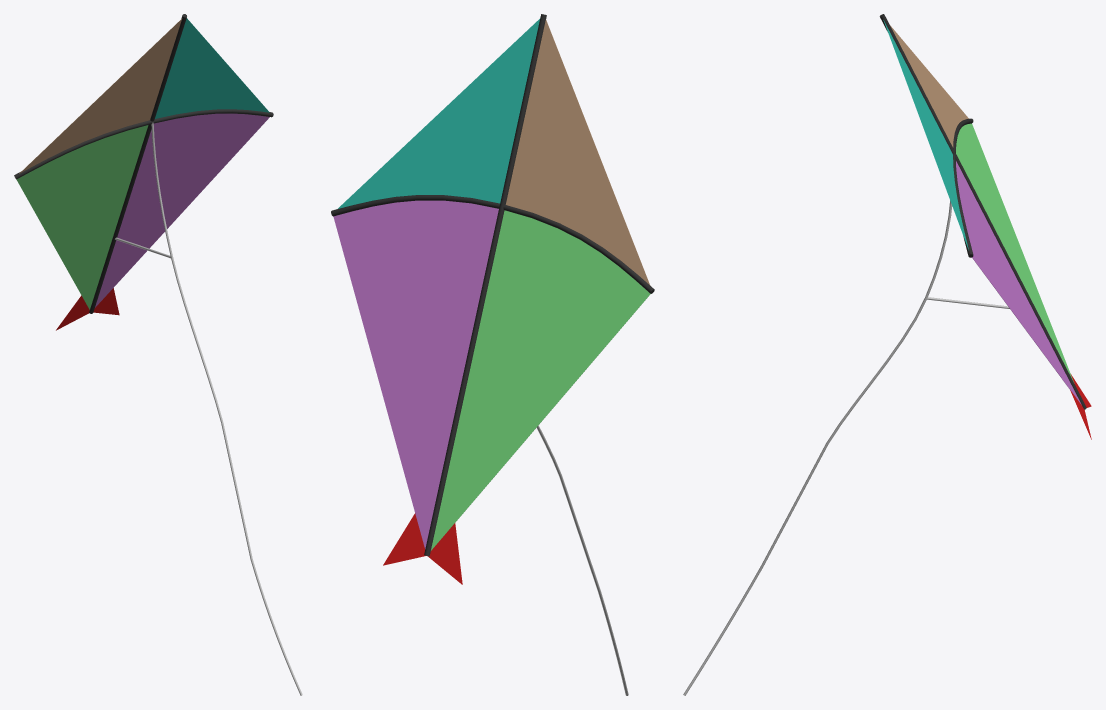
The model's file is K_Kite.FBX.
3 views of the same model, side by side, from view 1: azimuth 30°, elevation 25°; view 2: azimuth 150°, elevation 25°; view 3: azimuth 270°, elevation 25° (orthographic). The views are drawn at different scales.
Parts seen in each view (by area): view 1: Object007, Object005, Object001, Object003, Line002, Line005, Line003; view 2: Object007, Object005, Object001, Object003, Line002, Line003, Line005; view 3: Object005, Object007, Object003, Line002, Line005, Object001.
Boxes of the visible parts, x1,y1,x2,y2 form: Object007: [16, 125, 148, 309]; Object005: [95, 113, 269, 307]; Object001: [19, 18, 182, 173]; Object003: [155, 18, 269, 118]; Line002: [14, 14, 273, 313]; Line005: [115, 122, 302, 695]; Line003: [56, 288, 119, 330]; Object007: [431, 210, 650, 550]; Object005: [333, 200, 498, 548]; Object001: [505, 20, 650, 285]; Object003: [338, 18, 540, 208]; Line002: [331, 14, 654, 556]; Line003: [383, 513, 462, 584]; Line005: [536, 425, 628, 695]; Object005: [956, 161, 1081, 404]; Object007: [956, 123, 1074, 383]; Object003: [883, 20, 968, 250]; Line002: [879, 14, 1086, 409]; Line005: [683, 200, 1009, 695]; Object001: [890, 25, 968, 147].
Size of the model in its own units: 12.09 by 27.71 by 15.36.
